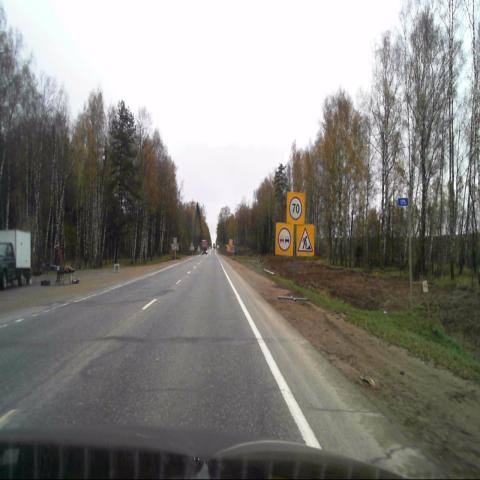1_25: (296, 224, 314, 255)
3_20: (275, 223, 293, 256)
3_24: (286, 192, 304, 225)
